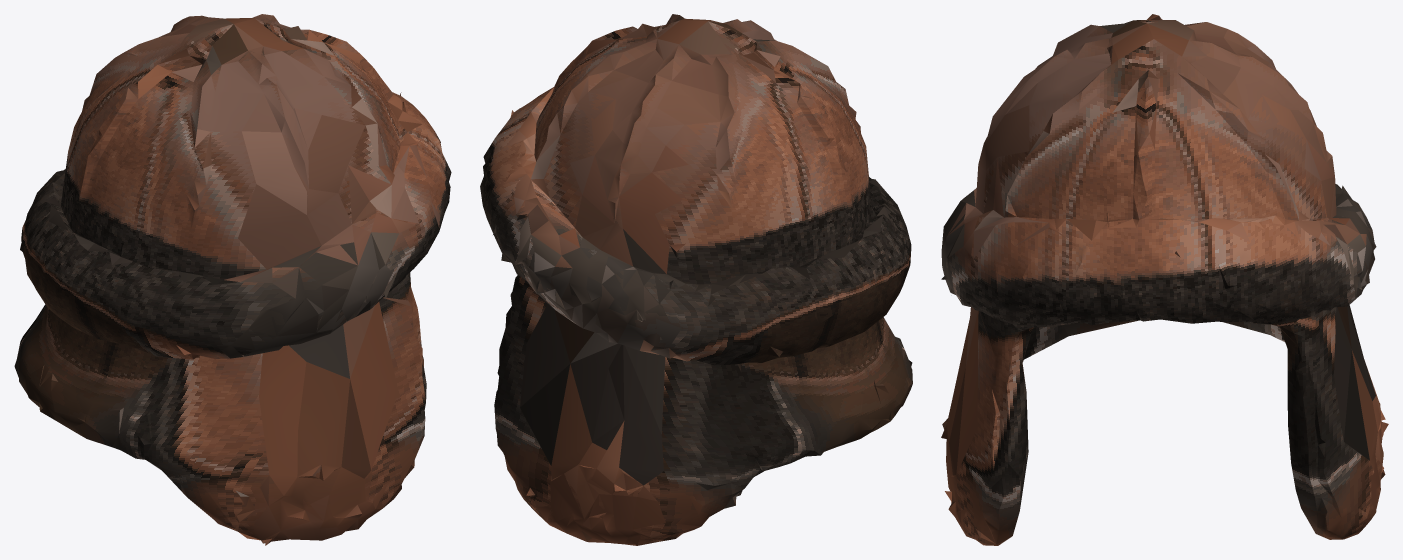
File: fieltro.glb
The picture shows the model from 3 angles, left to right: view 1: azimuth 30°, elevation 25°; view 2: azimuth 150°, elevation 25°; view 3: azimuth 270°, elevation 25°; orthographic projection. The views are drawn at different scales.
Visible parts, largest first — view 1: armadura.casco.fieltro; view 2: armadura.casco.fieltro; view 3: armadura.casco.fieltro.
Boxes of the visible parts, x1=… form: armadura.casco.fieltro: x1=14, y1=14, x2=451, y2=545; armadura.casco.fieltro: x1=480, y1=14, x2=912, y2=545; armadura.casco.fieltro: x1=941, y1=14, x2=1388, y2=545.
Size of the model in its own units: 0.2398 by 0.2729 by 0.2241.
Materials: 1 (1 with a texture image).
